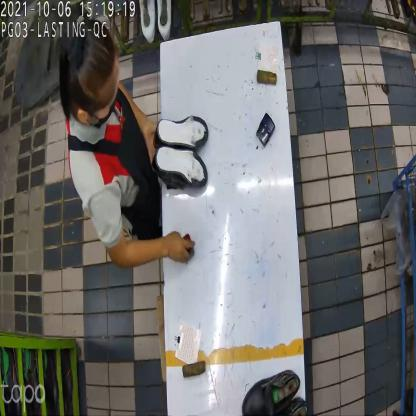shoes: (155, 110, 209, 190), (243, 362, 308, 416)
stamp: (257, 111, 275, 149), (177, 230, 194, 260)
